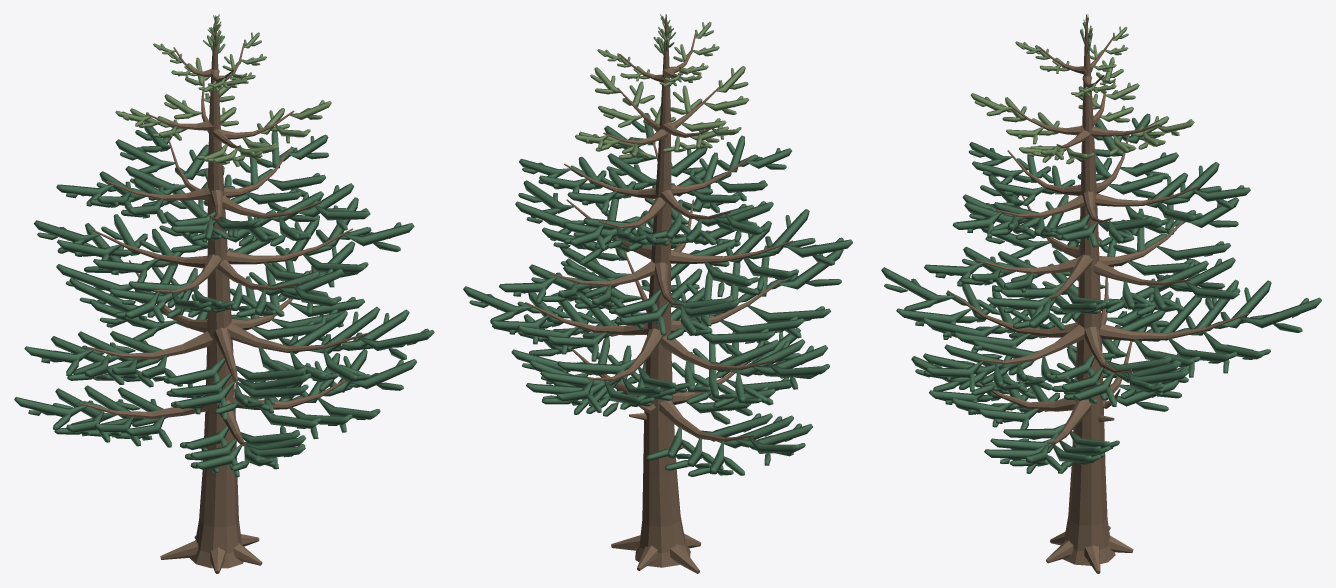
Rendered from conifer-tree-r12.glb.
3 renders of one model, left to right at view 1: azimuth 30°, elevation 25°; view 2: azimuth 150°, elevation 25°; view 3: azimuth 270°, elevation 25°, orthographic.
Visible parts, largest first — view 1: Conifer | clustered narrow needle-bearing shoots, Conifer | editable woody axis boughs and collars; view 2: Conifer | clustered narrow needle-bearing shoots, Conifer | editable woody axis boughs and collars; view 3: Conifer | clustered narrow needle-bearing shoots, Conifer | editable woody axis boughs and collars.
Part boxes in pixels (x1,y1,x2,y2): Conifer | clustered narrow needle-bearing shoots: [14, 14, 434, 477]; Conifer | editable woody axis boughs and collars: [79, 15, 366, 573]; Conifer | clustered narrow needle-bearing shoots: [463, 14, 852, 476]; Conifer | editable woody axis boughs and collars: [525, 14, 793, 573]; Conifer | clustered narrow needle-bearing shoots: [881, 14, 1321, 473]; Conifer | editable woody axis boughs and collars: [947, 14, 1248, 573].
Bounding box in the file's own units: 4.72 × 7.04 × 5.23.
